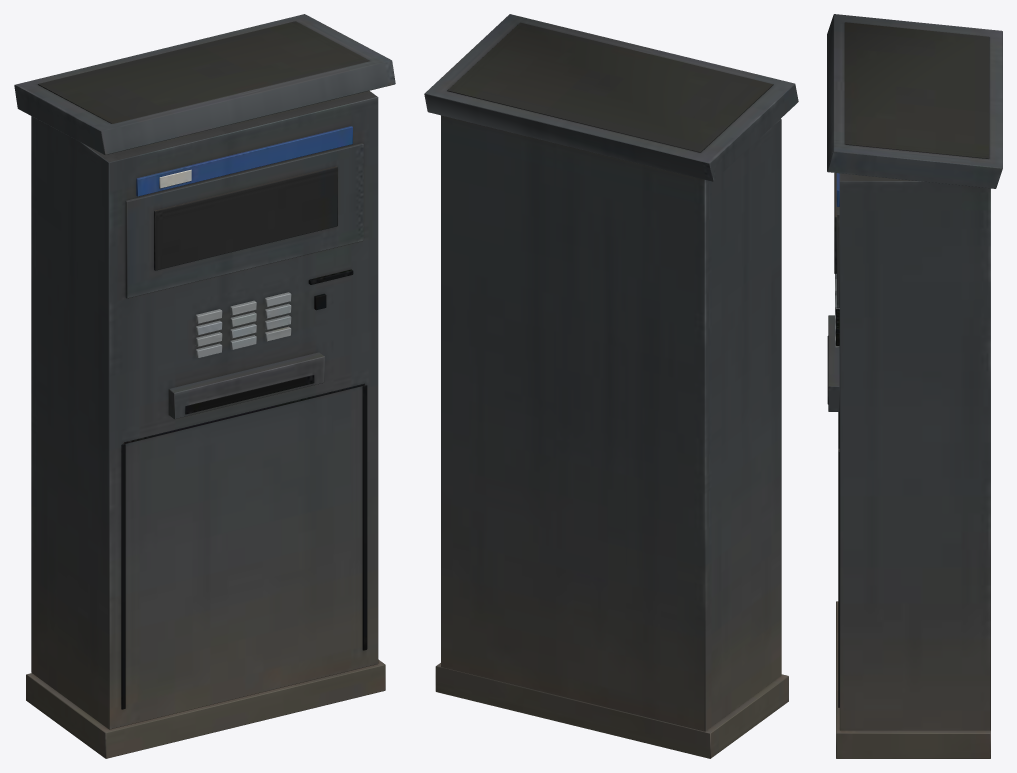
File: payStation-v2.glb
The picture shows the model from 3 angles, left to right: view 1: azimuth 30°, elevation 25°; view 2: azimuth 150°, elevation 25°; view 3: azimuth 270°, elevation 25°; orthographic projection. The views are drawn at different scales.
Visible parts, largest first — view 1: payStation; view 2: payStation; view 3: payStation.
Part boxes in pixels (x1,y1,x2,y2): payStation: [14, 14, 395, 758]; payStation: [424, 14, 798, 758]; payStation: [827, 14, 1002, 758].
Bounding box in the file's own units: 0.6 × 1.24 × 0.3242.
1 material, 1 textured.
